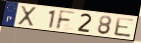1: (47, 10, 58, 29)
2: (77, 13, 93, 34)
8: (97, 15, 113, 36)
E: (113, 16, 135, 39)
F: (55, 9, 78, 31)
X: (17, 5, 38, 28)
